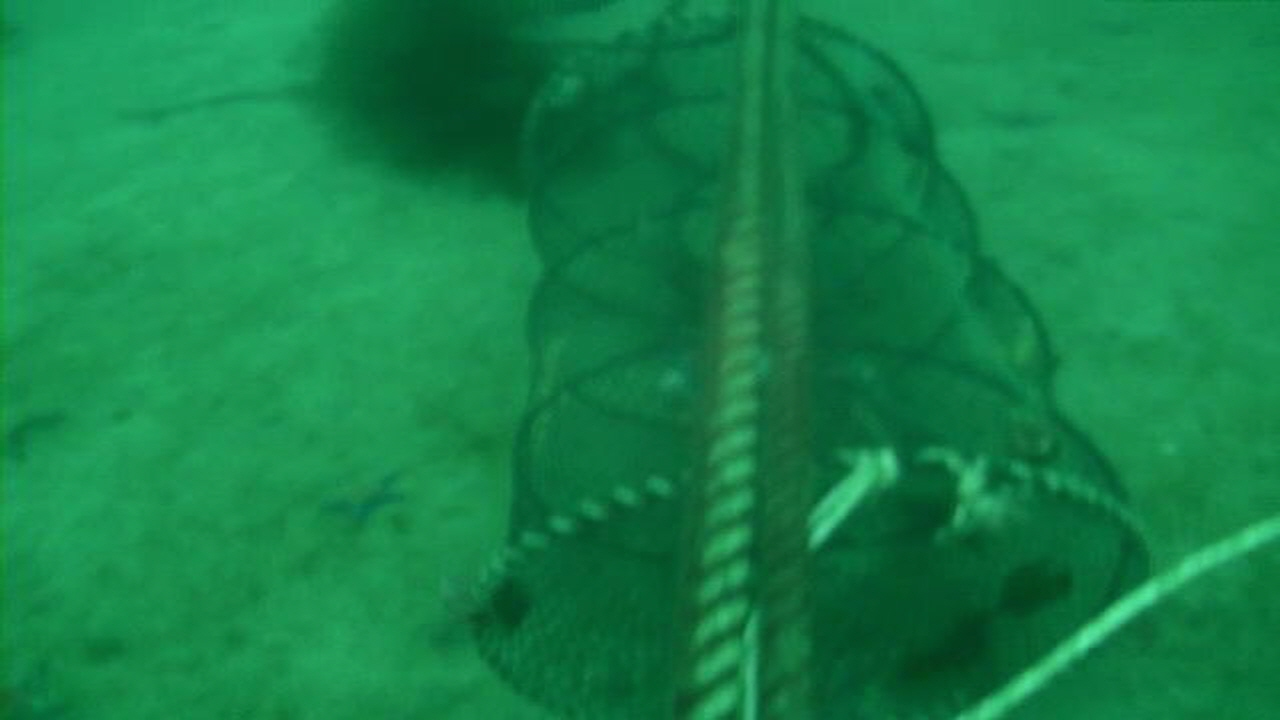bundle of ropes: (676, 0, 812, 720)
rope: (945, 514, 1279, 720)
spring fish trap: (464, 12, 1159, 720)
